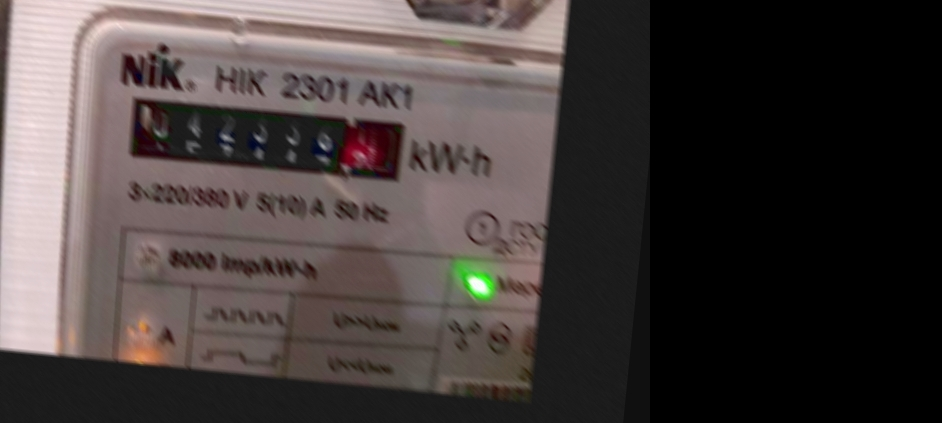0: (150, 109, 169, 139)
1: (353, 123, 367, 147)
2: (218, 112, 237, 143), (349, 149, 367, 169)
3: (282, 115, 301, 147), (250, 114, 268, 144)
4: (184, 108, 204, 138)
6: (316, 121, 336, 152)
screen: (115, 83, 418, 193)
